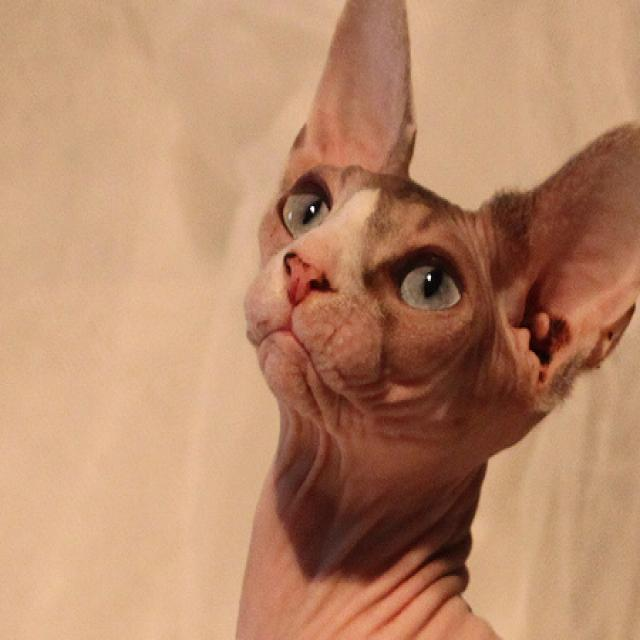Sphynx: (226, 0, 640, 640)
